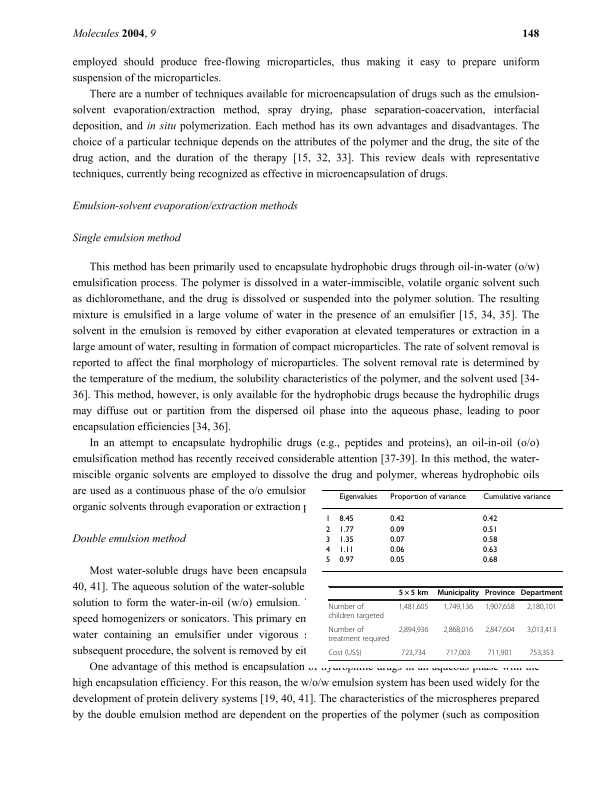borderless: (321, 488, 563, 572), (327, 585, 563, 660)
cell: (328, 625, 390, 643), (328, 602, 385, 620), (389, 492, 466, 502), (482, 492, 551, 502), (338, 492, 378, 502), (436, 589, 480, 598), (520, 589, 563, 598), (442, 602, 474, 612), (484, 602, 516, 612), (328, 648, 363, 657), (398, 602, 429, 612), (526, 602, 557, 612), (484, 589, 516, 598), (442, 625, 474, 634), (484, 625, 516, 634), (398, 589, 429, 598), (398, 625, 429, 634), (526, 625, 557, 634), (400, 648, 427, 657), (528, 648, 555, 657), (445, 648, 471, 657), (487, 648, 513, 657), (338, 525, 354, 535), (389, 525, 405, 535), (482, 525, 498, 535), (338, 535, 354, 545), (389, 535, 405, 545), (482, 535, 498, 545), (338, 545, 354, 555), (389, 545, 405, 555), (482, 545, 498, 555), (338, 515, 354, 524), (389, 515, 405, 524), (482, 515, 498, 524), (338, 556, 354, 565), (389, 556, 405, 565), (482, 556, 498, 565), (324, 525, 331, 535), (324, 535, 331, 545), (324, 545, 331, 555), (324, 515, 331, 524), (324, 556, 331, 565)
